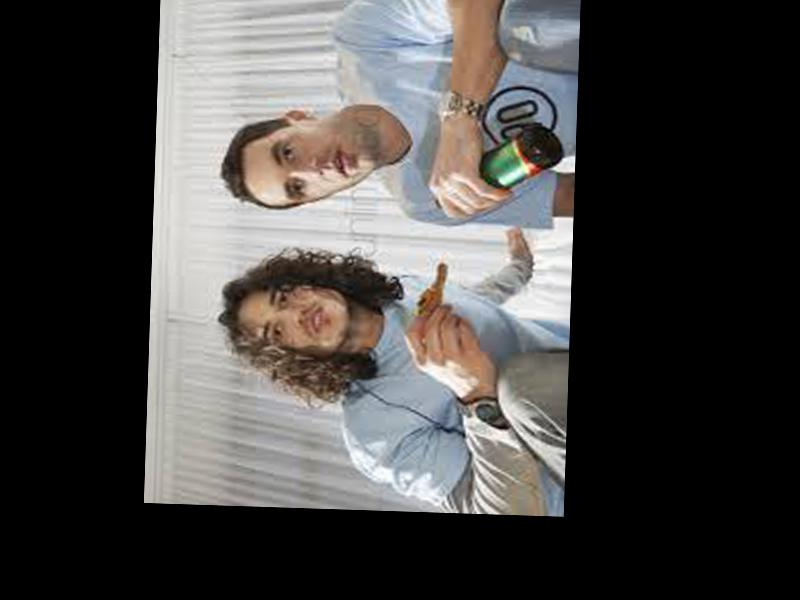Beer: (434, 119, 565, 212)
